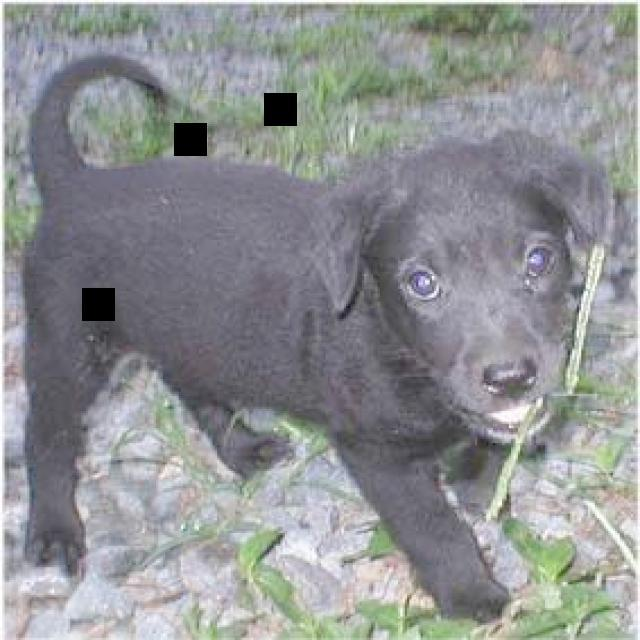puppy-dog: (17, 49, 615, 622)
